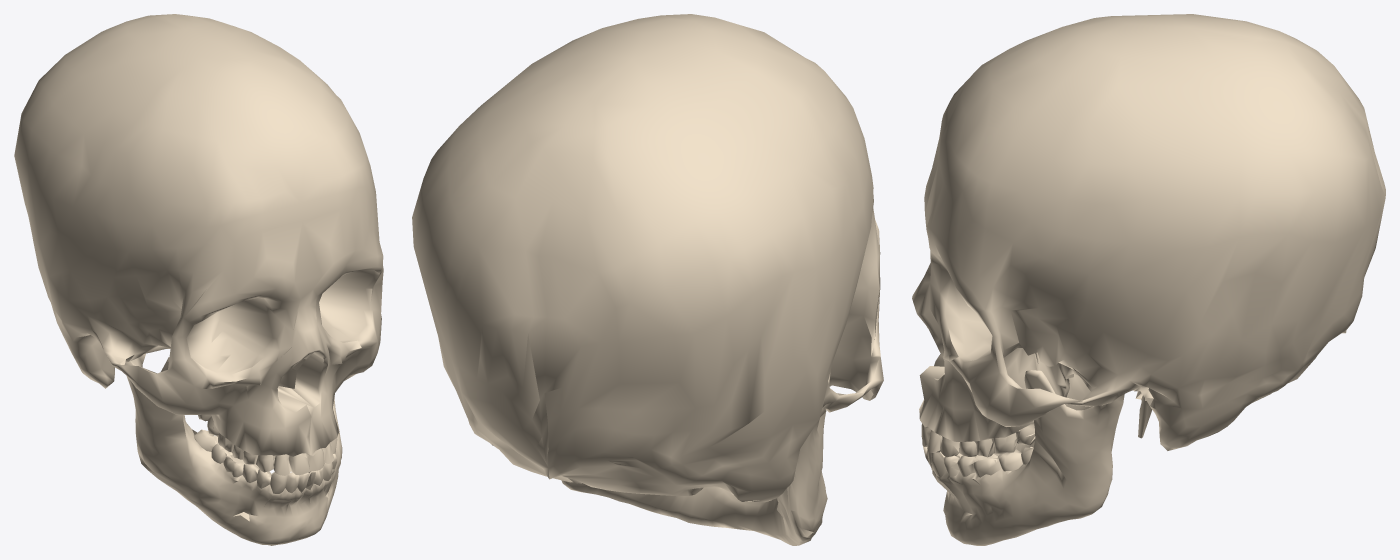
File: Skull_Polyreduced.FBX
The picture shows the model from 3 angles, left to right: view 1: azimuth 30°, elevation 25°; view 2: azimuth 150°, elevation 25°; view 3: azimuth 270°, elevation 25°; orthographic projection. The views are drawn at different scales.
Visible parts, largest first — view 1: skull, jaw, lteeth, uteeth; view 2: skull, jaw; view 3: skull, jaw, lteeth, uteeth.
Boxes of the visible parts, left/top/right/bottom form: skull: left=14, top=14, right=383, bottom=460; jaw: left=124, top=353, right=342, bottom=545; lteeth: left=194, top=429, right=336, bottom=493; uteeth: left=198, top=414, right=337, bottom=475; skull: left=412, top=14, right=883, bottom=502; jaw: left=561, top=372, right=830, bottom=545; skull: left=912, top=14, right=1385, bottom=450; jaw: left=931, top=370, right=1124, bottom=545; lteeth: left=922, top=438, right=1033, bottom=477; uteeth: left=921, top=422, right=1035, bottom=457.
Size of the model in its own units: 12.61 by 15.98 by 18.59.
